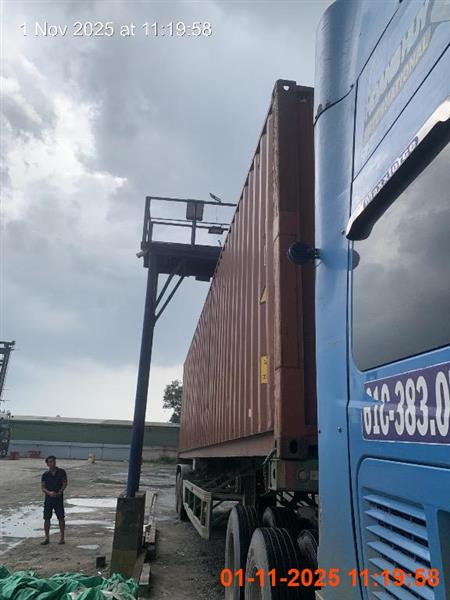broken: (40, 455, 67, 545)
